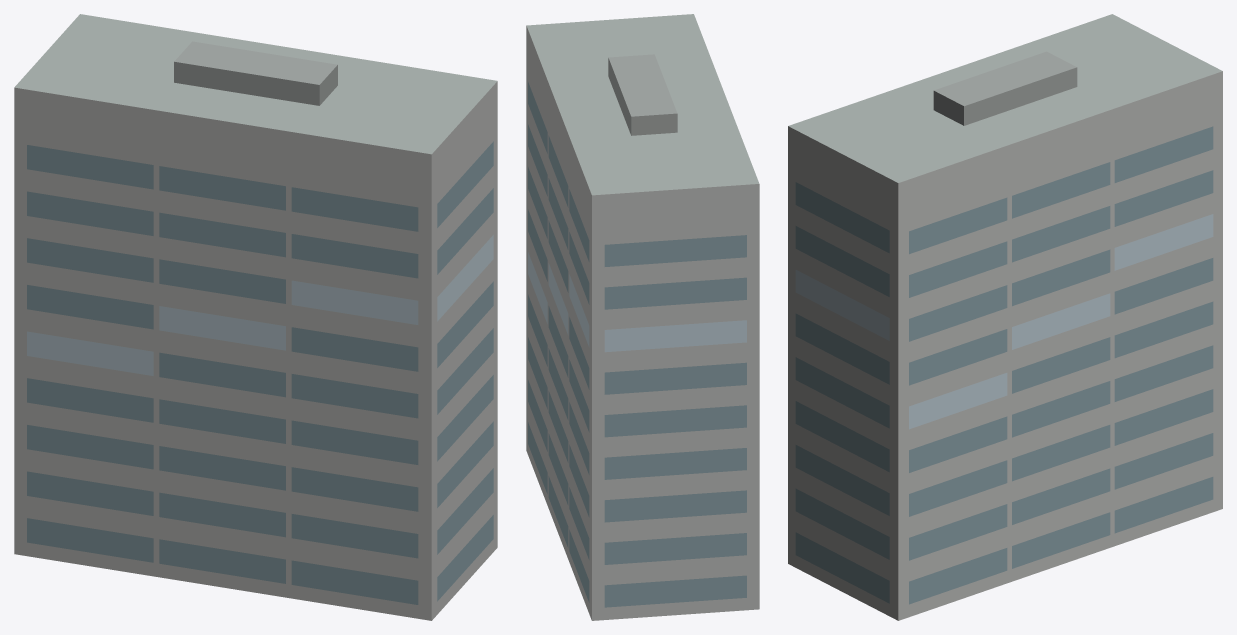
Rendered from fallback-olympic-athletes-village-240.glb.
The picture shows the model from 3 angles, left to right: view 1: azimuth 30°, elevation 25°; view 2: azimuth 150°, elevation 25°; view 3: azimuth 270°, elevation 25°; orthographic projection. The views are drawn at different scales.
Parts seen in each view (by area): view 1: fallback-olympic-athletes-village-240; view 2: fallback-olympic-athletes-village-240; view 3: fallback-olympic-athletes-village-240.
Part boxes in pixels (x1,y1,x2,y2): fallback-olympic-athletes-village-240: (14, 14, 497, 620); fallback-olympic-athletes-village-240: (526, 14, 759, 620); fallback-olympic-athletes-village-240: (788, 14, 1222, 620).
Size of the model in its own units: 25.28 by 31.87 by 27.46.
